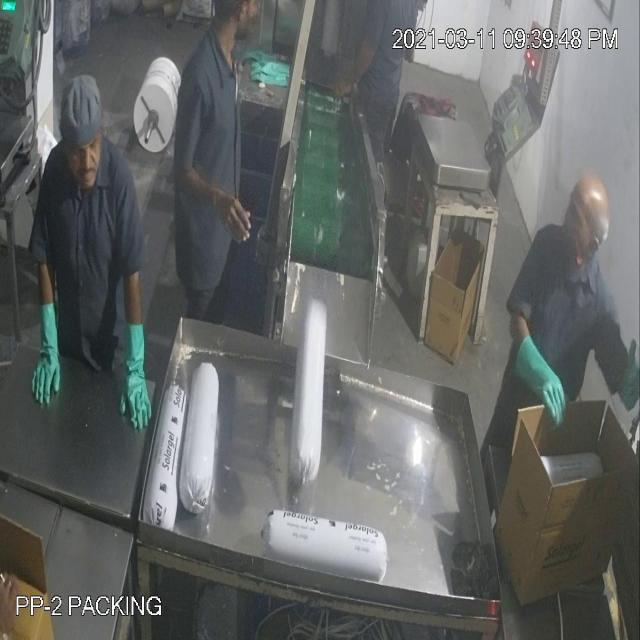No_Gloves: (30, 72, 625, 383)
